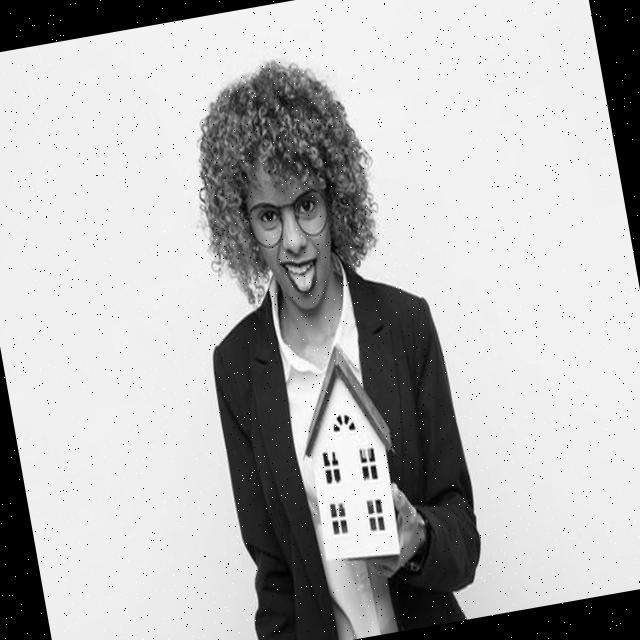Disgust: (231, 140, 348, 322)
